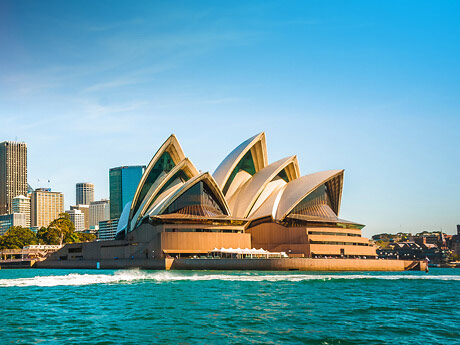opera house: (80, 127, 383, 271)
